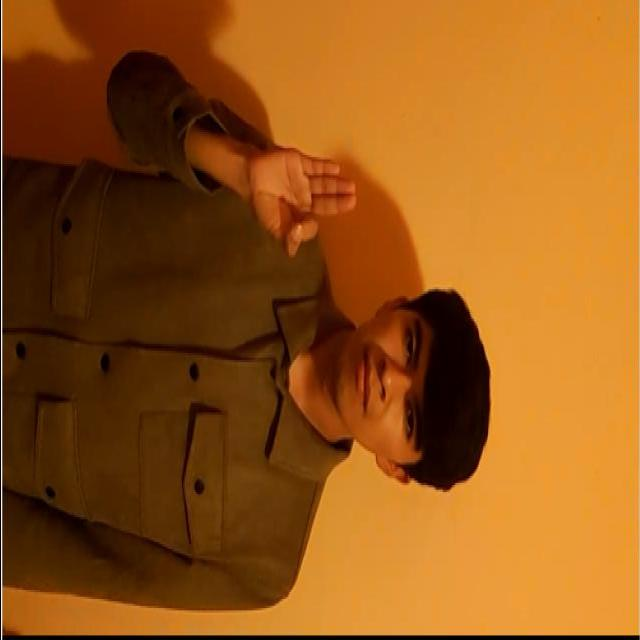F: (230, 120, 360, 280)
